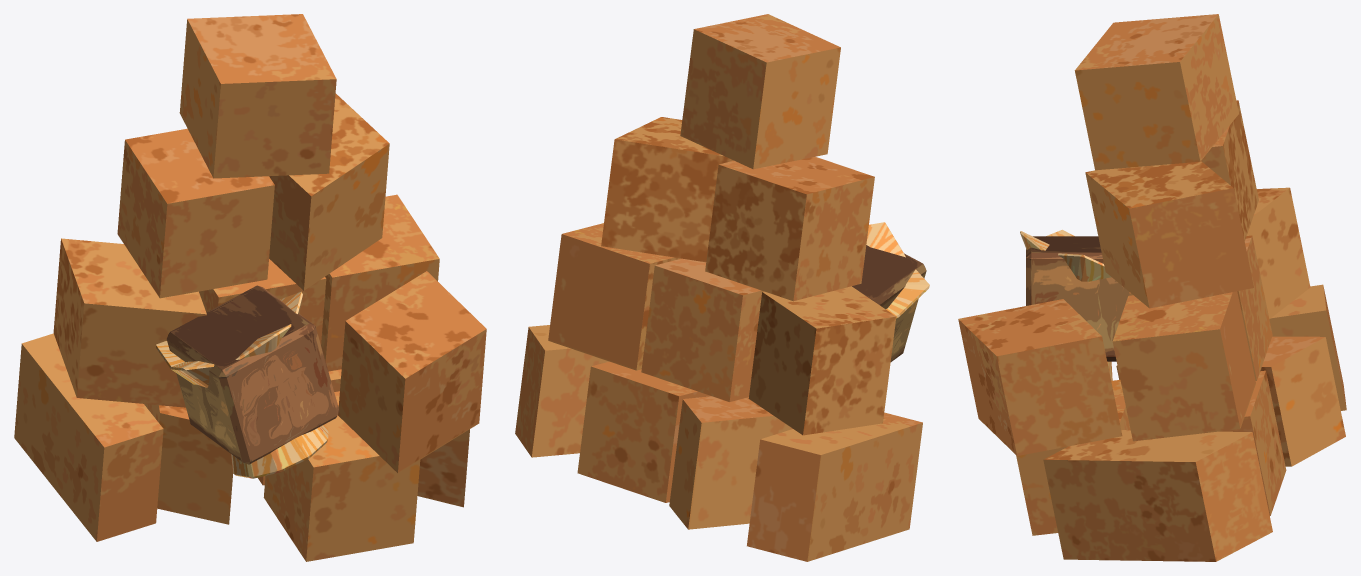
Rendered from Pickup_items_with_animation.glb.
3 views of the same model, side by side, from view 1: azimuth 30°, elevation 25°; view 2: azimuth 150°, elevation 25°; view 3: azimuth 270°, elevation 25° (orthographic). The views are drawn at different scales.
Visible parts, largest first — view 1: Cube.002, Cube, Cylinder; view 2: Cube.002, Cube, Cylinder; view 3: Cube.002, Cube, Cylinder.
Boxes of the visible parts, box(x1,y1,x2,y2) form: Cube.002: box(14, 14, 486, 561); Cube: box(166, 285, 339, 464); Cylinder: box(156, 291, 328, 478); Cube.002: box(515, 14, 922, 561); Cube: box(852, 245, 926, 361); Cylinder: box(866, 222, 929, 318); Cube.002: box(958, 14, 1346, 561); Cube: box(1026, 236, 1129, 361); Cylinder: box(1020, 229, 1112, 380).
Size of the model in its own units: 7.63 by 9.24 by 7.04.
Materials: 3 (3 with a texture image).
